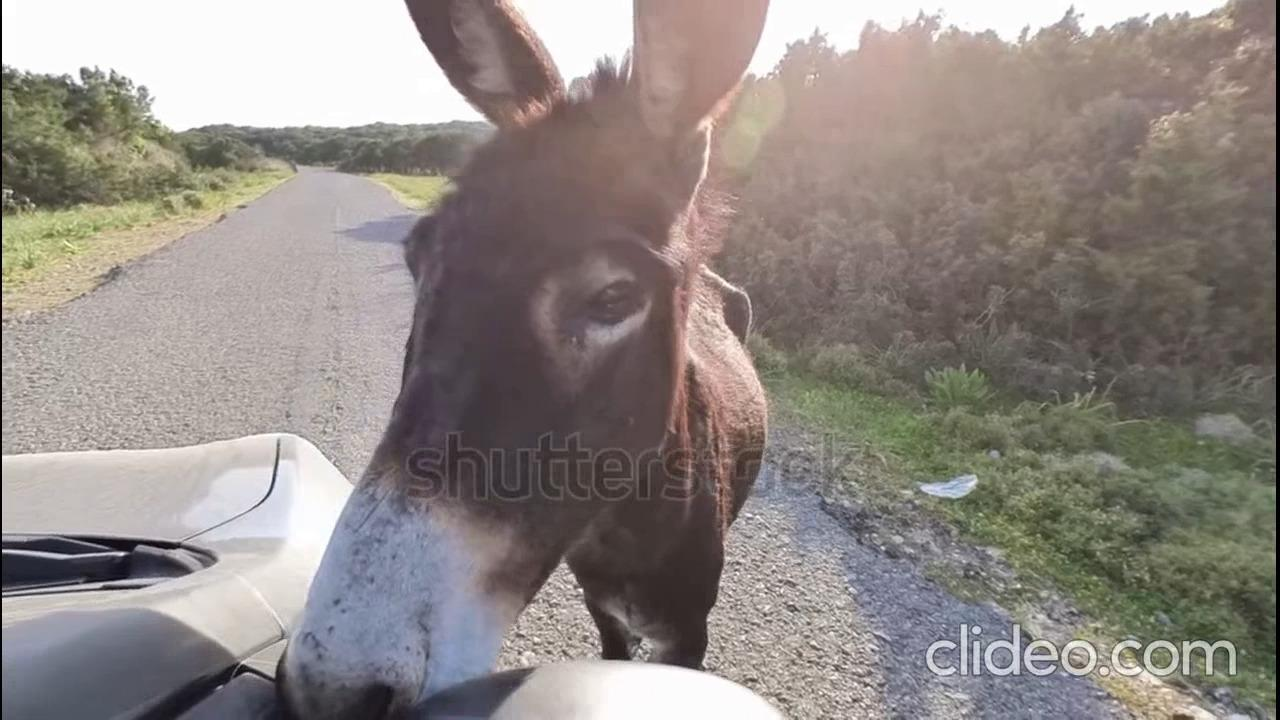Donkey: (270, 2, 775, 720)
